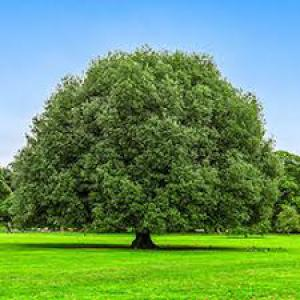Tree: (9, 41, 283, 247)
